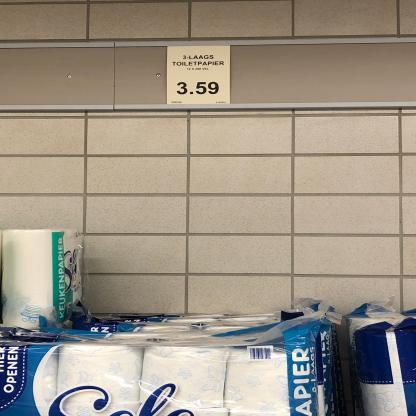prtg: (168, 46, 231, 105)
